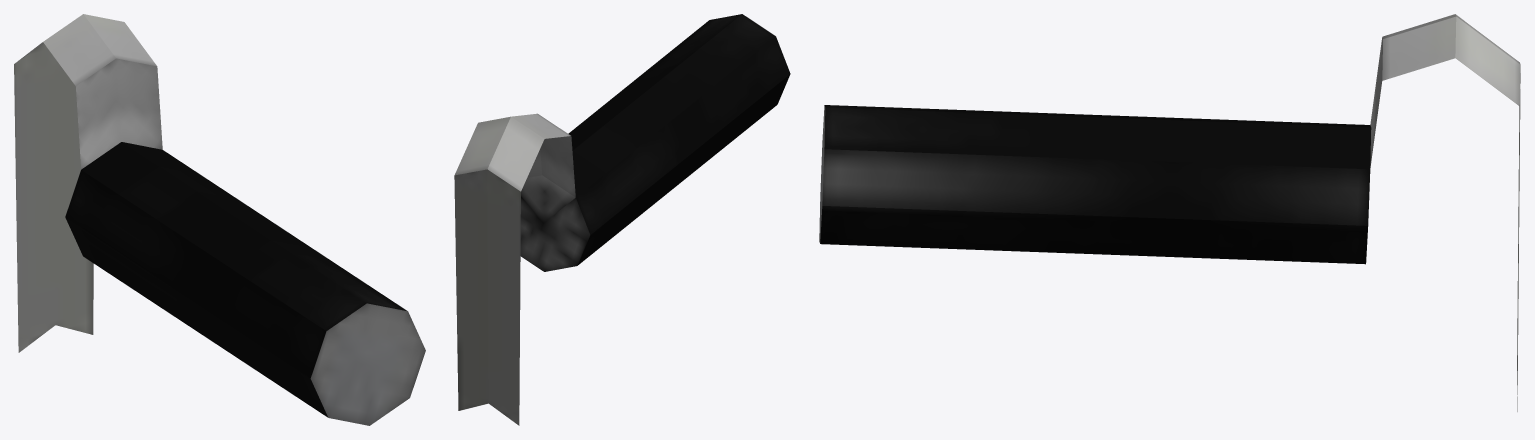
File: p51_throttleLever.FBX
The picture shows the model from 3 angles, left to right: view 1: azimuth 30°, elevation 25°; view 2: azimuth 150°, elevation 25°; view 3: azimuth 270°, elevation 25°; orthographic projection. The views are drawn at different scales.
Parts seen in each view (by area): view 1: throttle; view 2: throttle; view 3: throttle.
Boxes of the visible parts, x1,y1,x2,y2 form: throttle: (14, 14, 425, 425); throttle: (454, 14, 790, 425); throttle: (819, 14, 1520, 411).
Bounding box in the file's own units: 1.96 × 5.69 × 9.29.
